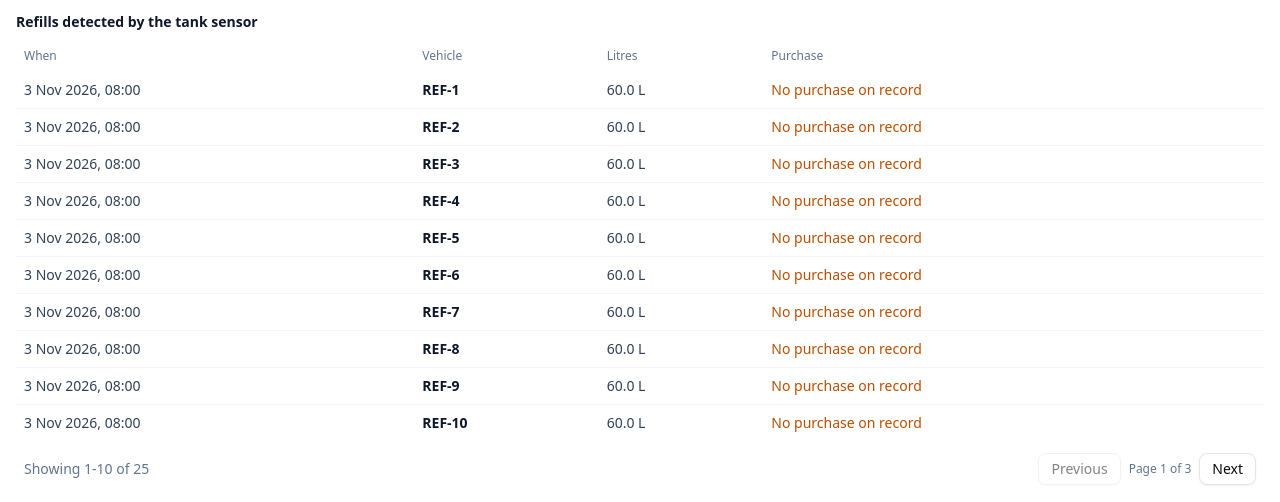
Test: analytics table pagination › splits 25 rows into 3 pages of 10, 10 and 5
Check: the text "Showing 1-10 of 25" is shown, box [24,459,149,479]
Check: the link "REF-1" is shown, box [422,80,460,99]
Click the button with aria-label "next refills".
click(1228, 469)  # box [1199,453,1256,485]
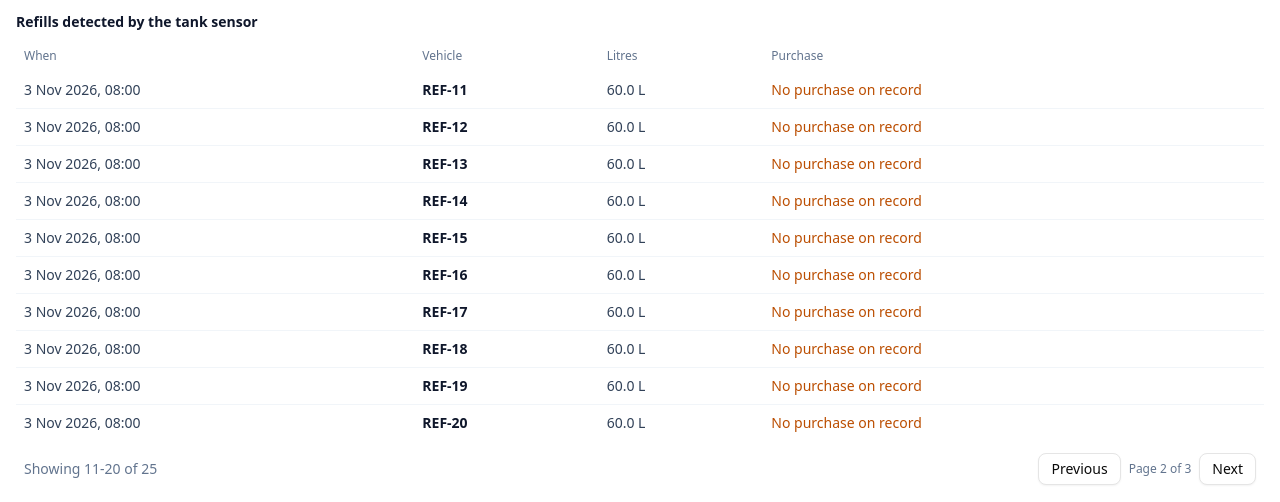
Check: the text "Showing 11-20 of 25" is shown, box [24,459,157,479]
Check: the link "REF-11" is shown, box [422,80,468,99]
Click the button with aria-label "next refills".
click(1228, 469)  # box [1199,453,1256,485]
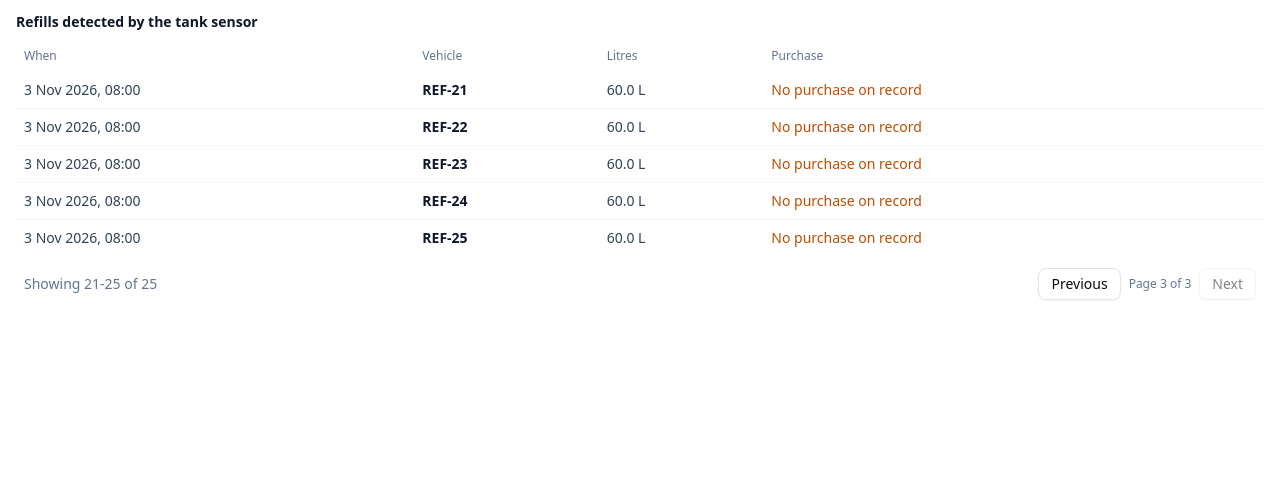
Check: the text "Showing 21-25 of 25" is shown, box [24,274,157,294]
Check: the number of rows is 6, box [16,40,1264,72]; [16,72,1264,108]; [16,108,1264,146]; [16,146,1264,182]; [16,182,1264,220]; [16,220,1264,256]
Check: the button with aria-label "next refills" is disabled, box [1199,268,1256,300]
Click the button with aria-label "previous refills".
click(1080, 284)  # box [1038,268,1121,300]
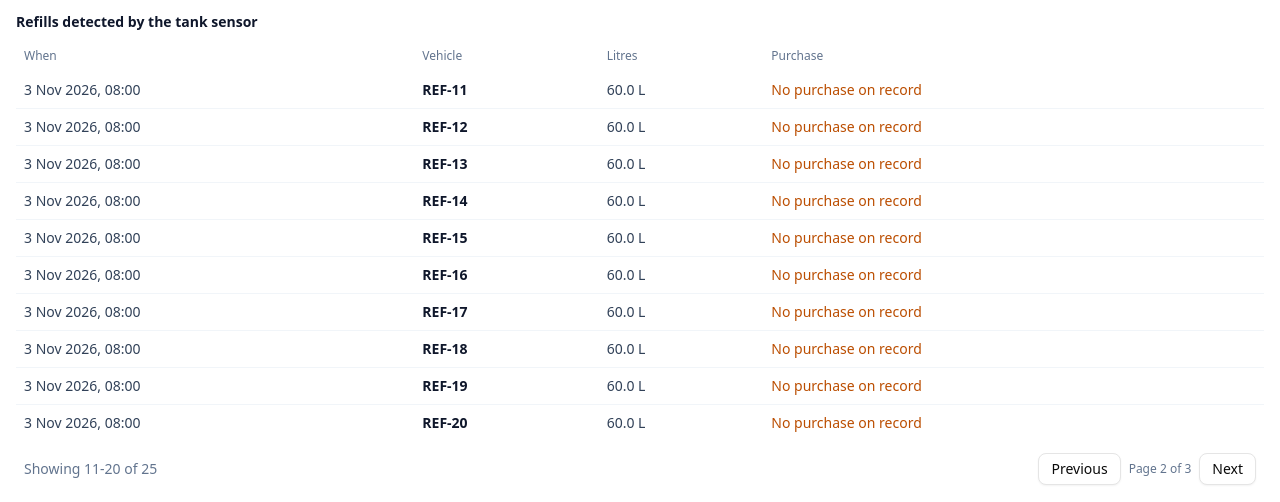
Check: the text "Showing 11-20 of 25" is shown, box [24,459,157,479]
Click the button with aria-label "previous refills".
click(1080, 469)  # box [1038,453,1121,485]
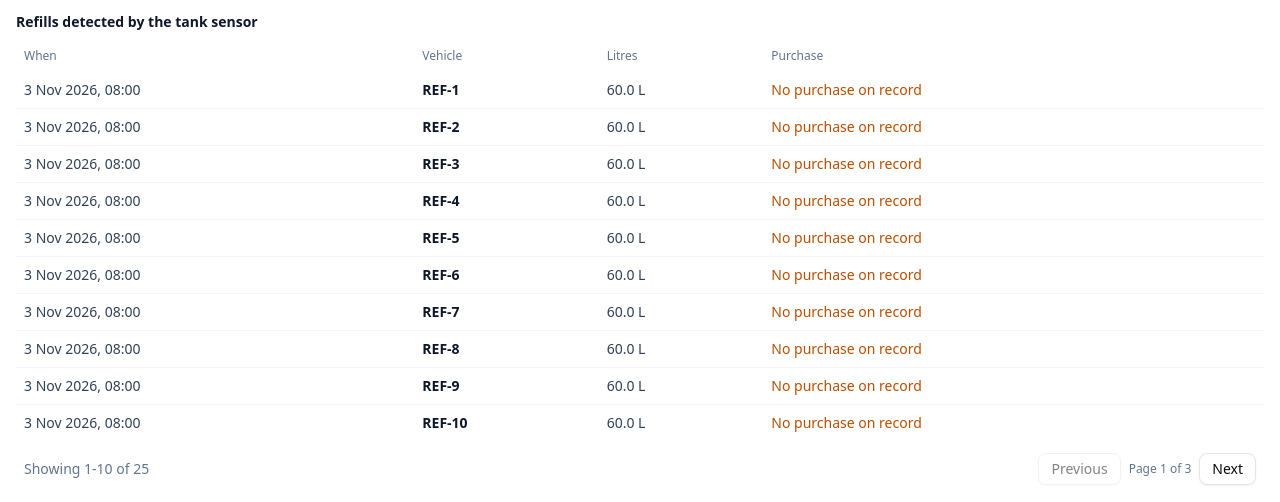
Check: the navigation bar named "Refills pages" is shown, box [1038,453,1256,485]
Check: the button with aria-label "previous refills" is disabled, box [1038,453,1121,485]
